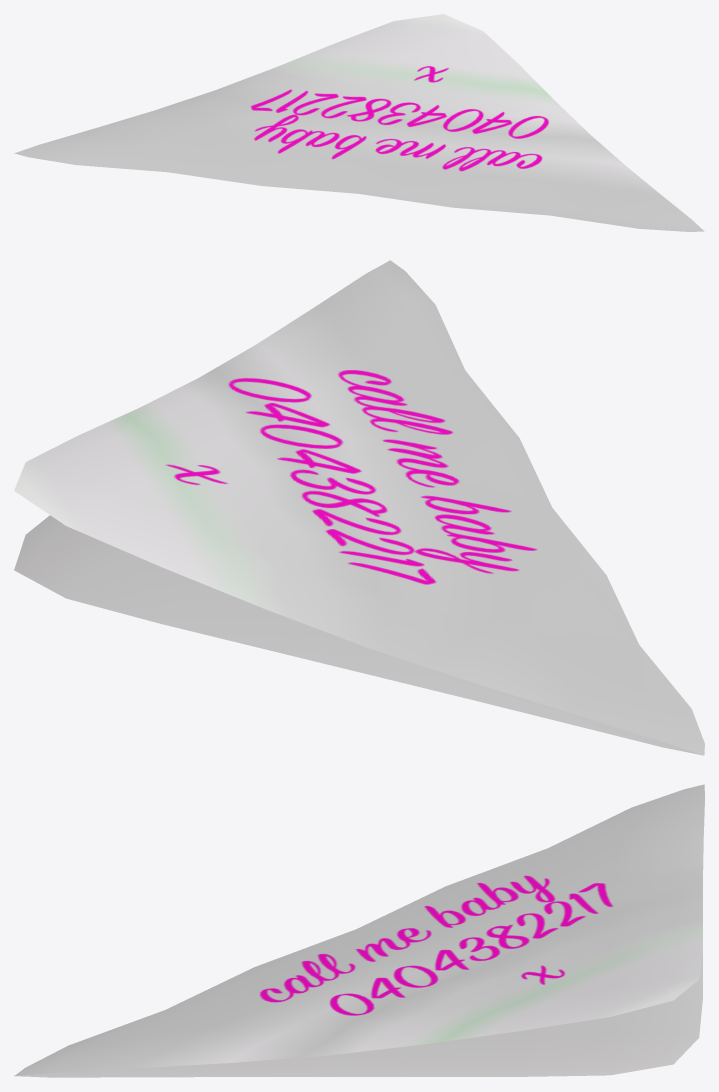
File: napkinA.glb
The picture shows the model from 3 angles, top to bottom: view 1: azimuth 30°, elevation 25°; view 2: azimuth 150°, elevation 25°; view 3: azimuth 270°, elevation 25°; orthographic projection. The views are drawn at different scales.
Visible parts, largest first — view 1: Plane.018, Plane.019; view 2: Plane.018, Plane.019; view 3: Plane.018, Plane.019.
Part boxes in pixels (bbox=[...]): Plane.018: bbox=[14, 14, 704, 231]; Plane.019: bbox=[251, 66, 548, 171]; Plane.018: bbox=[14, 260, 704, 755]; Plane.019: bbox=[166, 370, 536, 584]; Plane.018: bbox=[14, 784, 704, 1077]; Plane.019: bbox=[260, 875, 612, 1015].
Size of the model in its own units: 0.6192 by 0.0681 by 0.6192.
Materials: 2 (2 with a texture image).
